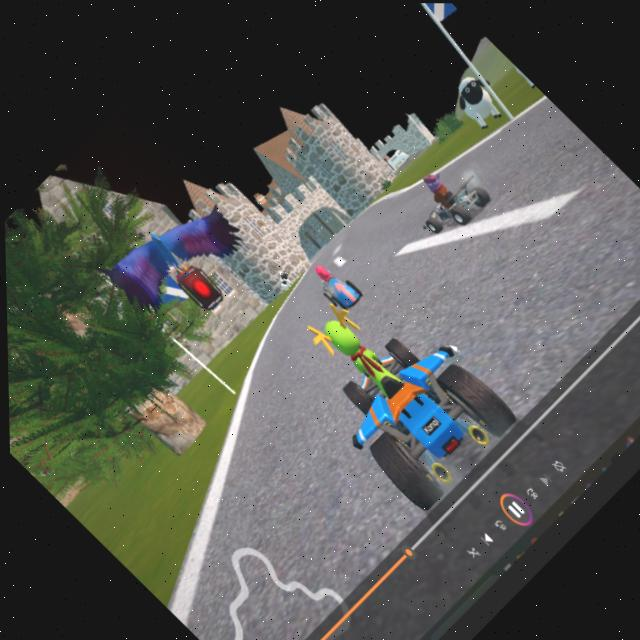enemy_kart: (392, 144, 510, 261), (299, 252, 373, 325)
player_kart: (273, 262, 537, 523)
track: (327, 191, 412, 274)
